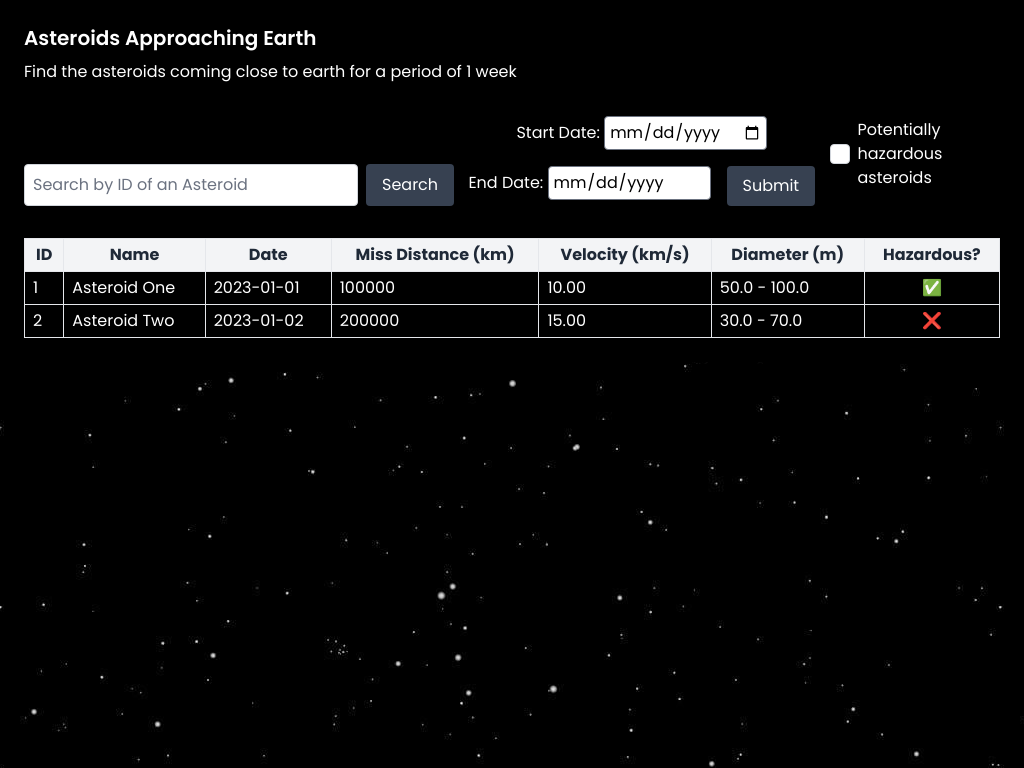
Test case: AsteroidsData Component › filters hazardous asteroids
Expected: the link "Asteroid One" is shown, [72,276,175,299]
Expected: the link "Asteroid Two" is shown, [72,309,174,332]
Click the checkbox labelled "Potentially hazardous asteroids": (840, 154) [830,144,850,164]
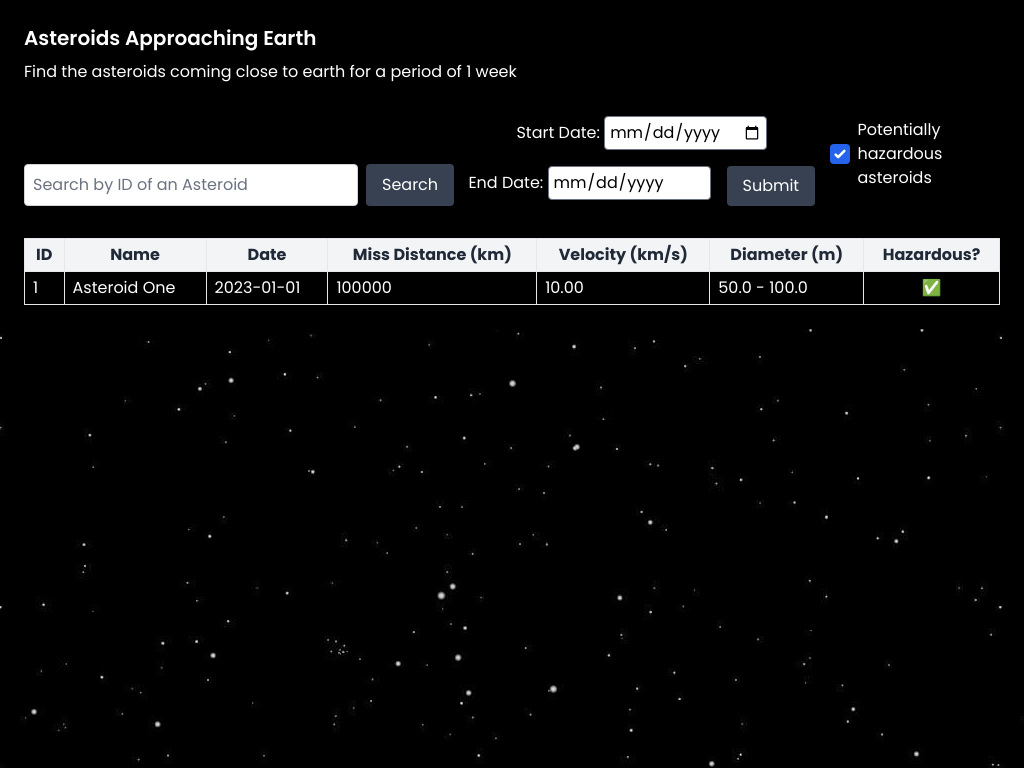
Expected: the link "Asteroid One" is shown, [72,276,175,299]
Expected: the link "Asteroid Two" is gone
